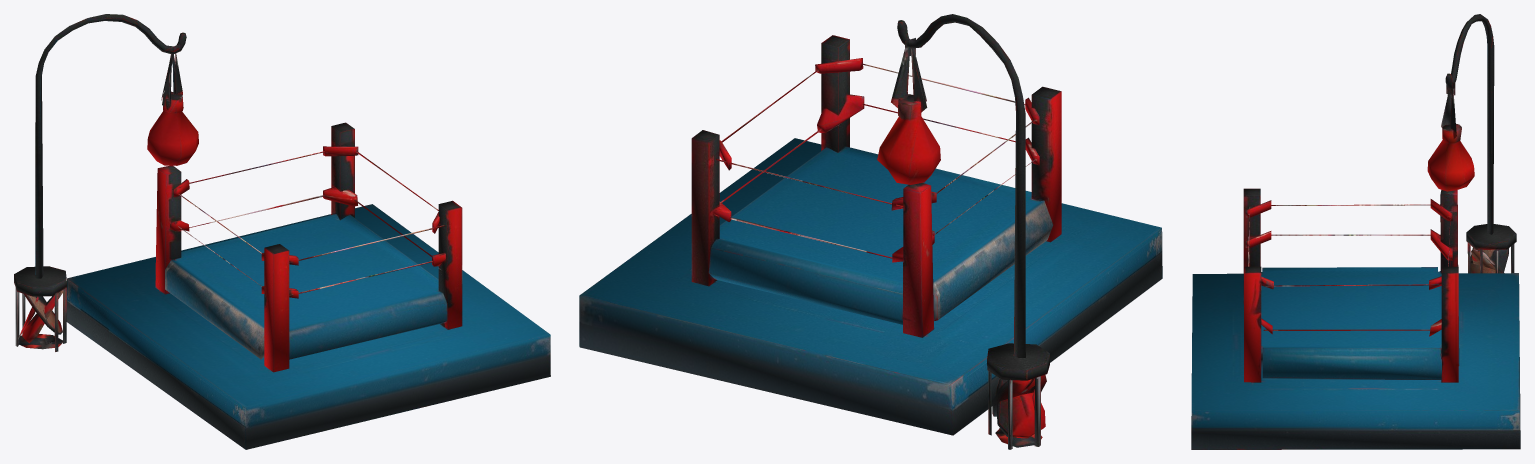
File: boxing_ring.glb
3 views of the same model, side by side, from view 1: azimuth 30°, elevation 25°; view 2: azimuth 150°, elevation 25°; view 3: azimuth 270°, elevation 25° (orthographic). The views are drawn at different scales.
Bounding box in the file's own units: 6 × 5.02 × 5.01.
Materials: 1 (1 with a texture image).
